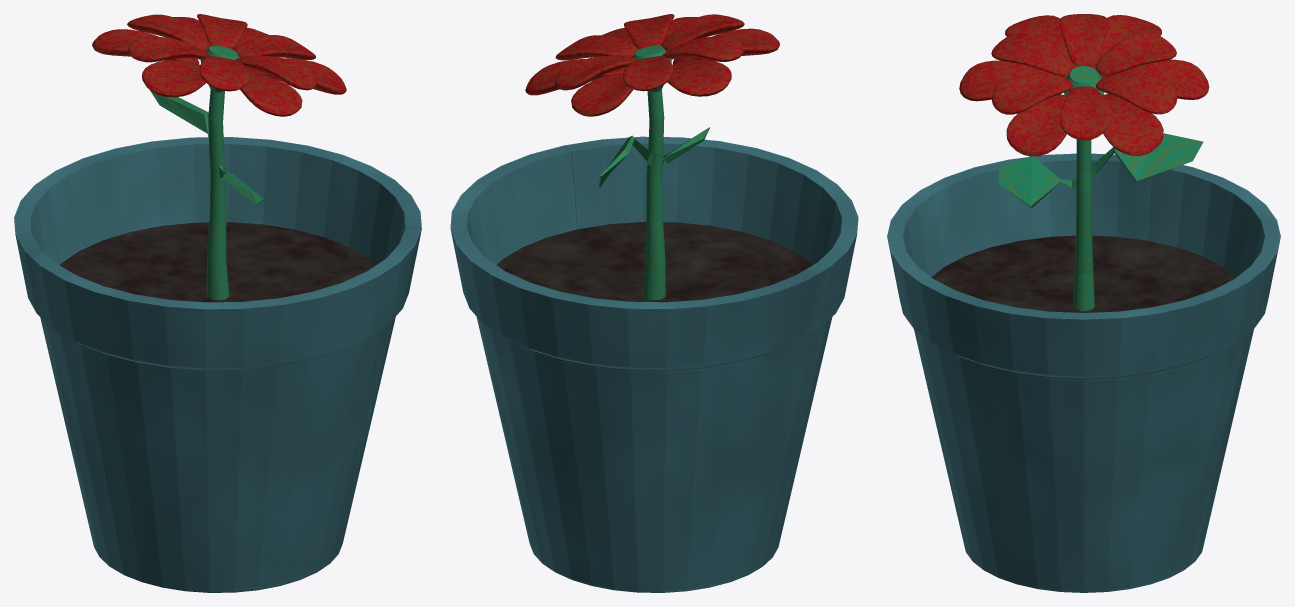
Rendered from potted_plant_7ad37a39f553.glb.
The picture shows the model from 3 angles, left to right: view 1: azimuth 30°, elevation 25°; view 2: azimuth 150°, elevation 25°; view 3: azimuth 270°, elevation 25°; orthographic projection. The views are drawn at different scales.
Visible parts, largest first — view 1: Ghiveci_Cylinder.003; view 2: Ghiveci_Cylinder.003; view 3: Ghiveci_Cylinder.003.
Part boxes in pixels (x1=…): Ghiveci_Cylinder.003: x1=14, y1=14, x2=421, y2=592; Ghiveci_Cylinder.003: x1=450, y1=14, x2=858, y2=592; Ghiveci_Cylinder.003: x1=887, y1=14, x2=1280, y2=592.
Bounding box in the file's own units: 2.08 × 2.87 × 2.08.
1 material, 1 textured.
